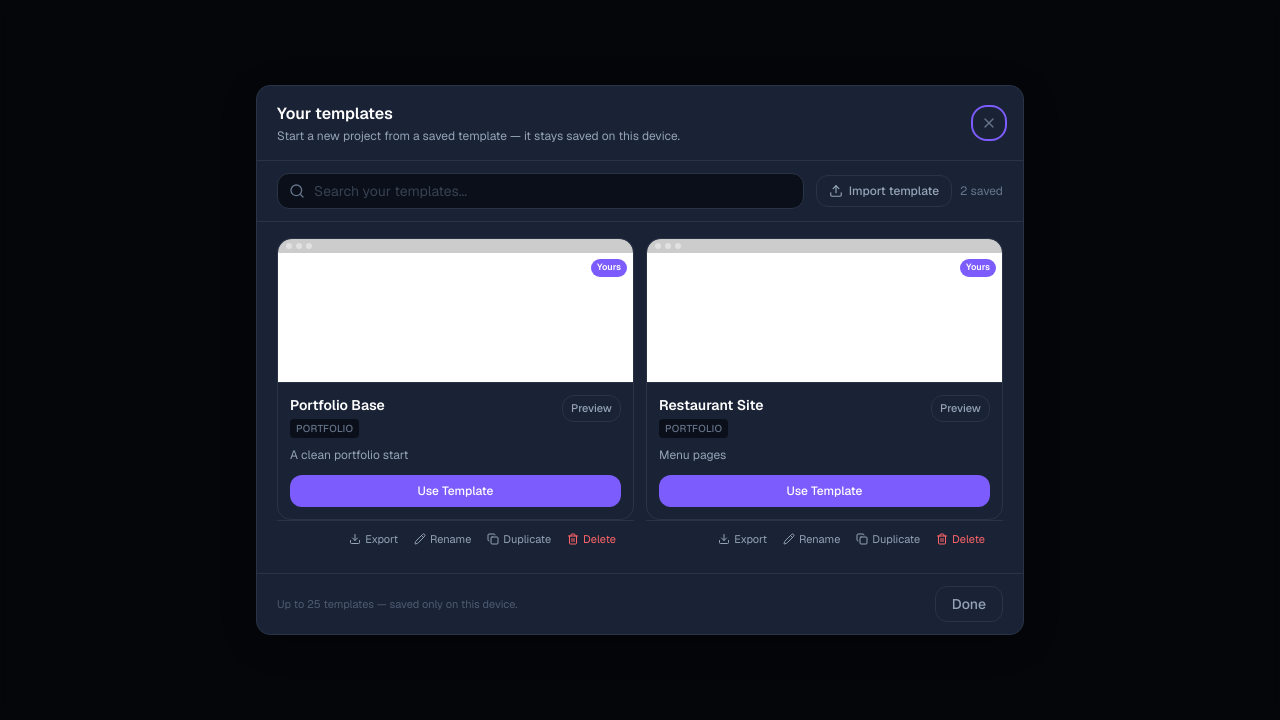
PersonalTemplatesPanel › filters by search across name, description, and tags
This screenshot has width=1280, height=720.
Expected: the number of elements with test id "personal-template-card" is 2, 277,238 -> 634,557; 646,238 -> 1003,557
Type "menu" into the field labelled "Search your templates...".
click(540, 191); type("menu")  # box 277,173 -> 804,209
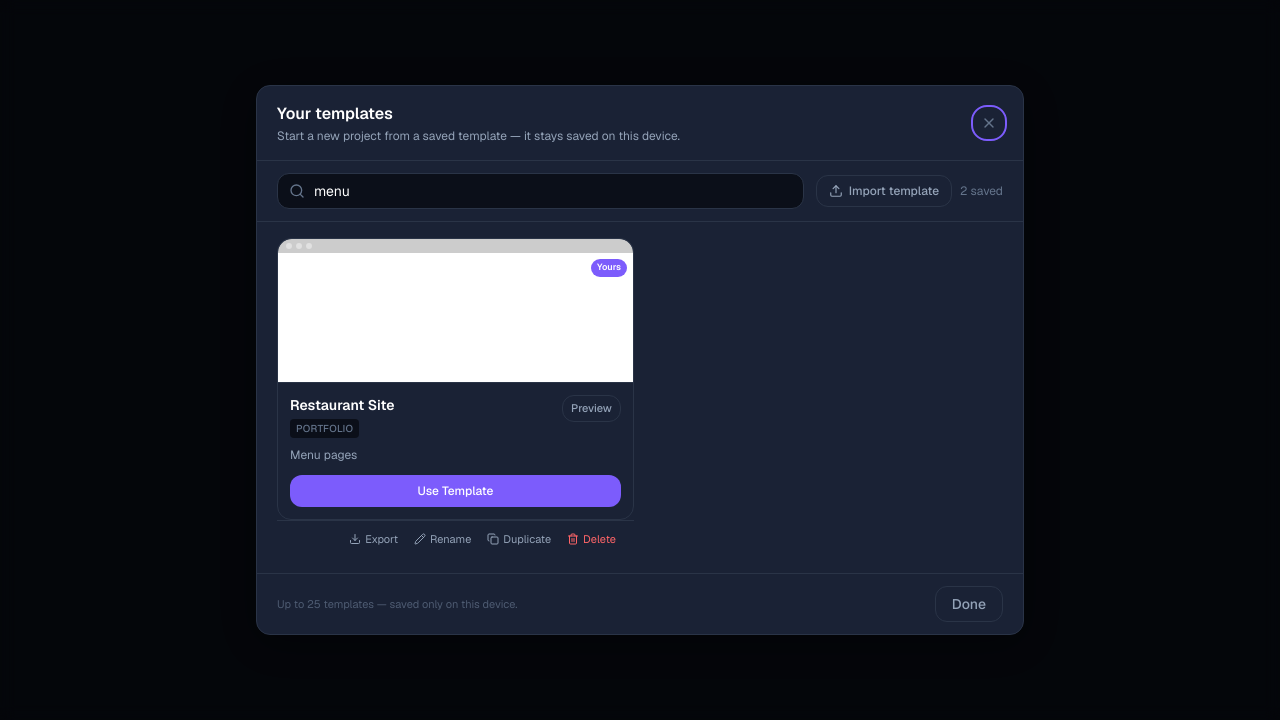
Result: the number of elements with test id "personal-template-card" is 1 at 277,238 -> 634,557
Result: the heading "Portfolio Base" is gone
